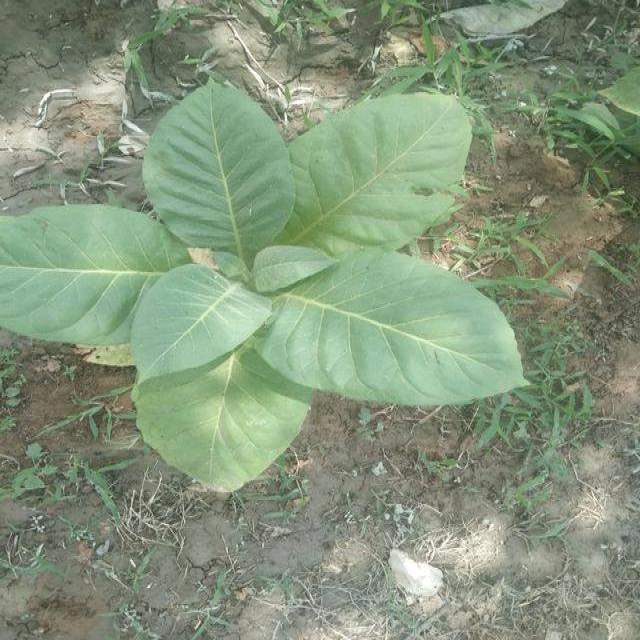crop: (0, 81, 531, 488)
